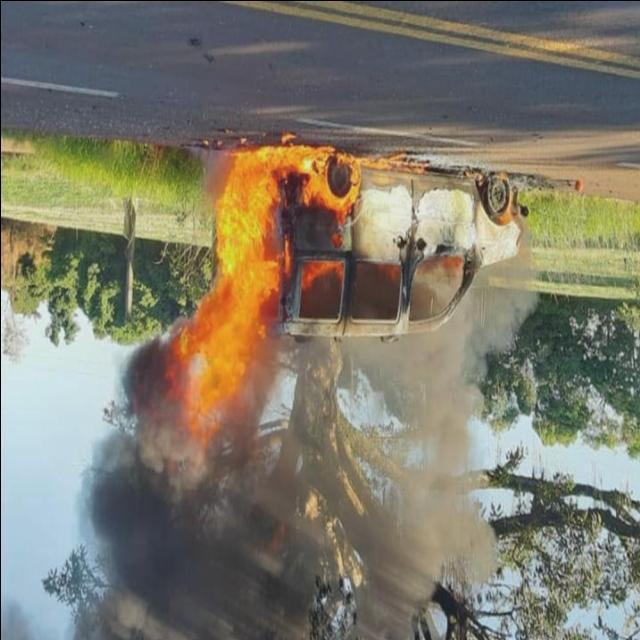Fire: (175, 142, 422, 446)
